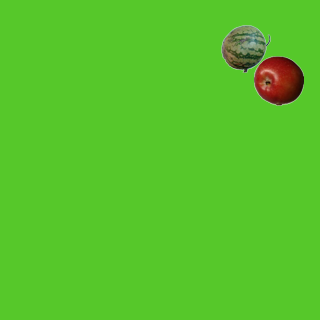Apple Braeburn: (253, 55, 303, 105)
Watermelon: (220, 23, 270, 73)
